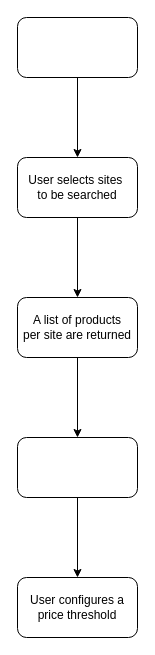
The diagram is 155 pixels wide and 655 high, and some of its shapes have lost their labels. The centre of each missing label's shape, as x and y in pixels:
"The user selects the products that considers relevant" goes at point (77, 467).
"User provides a product name" goes at point (77, 47).
